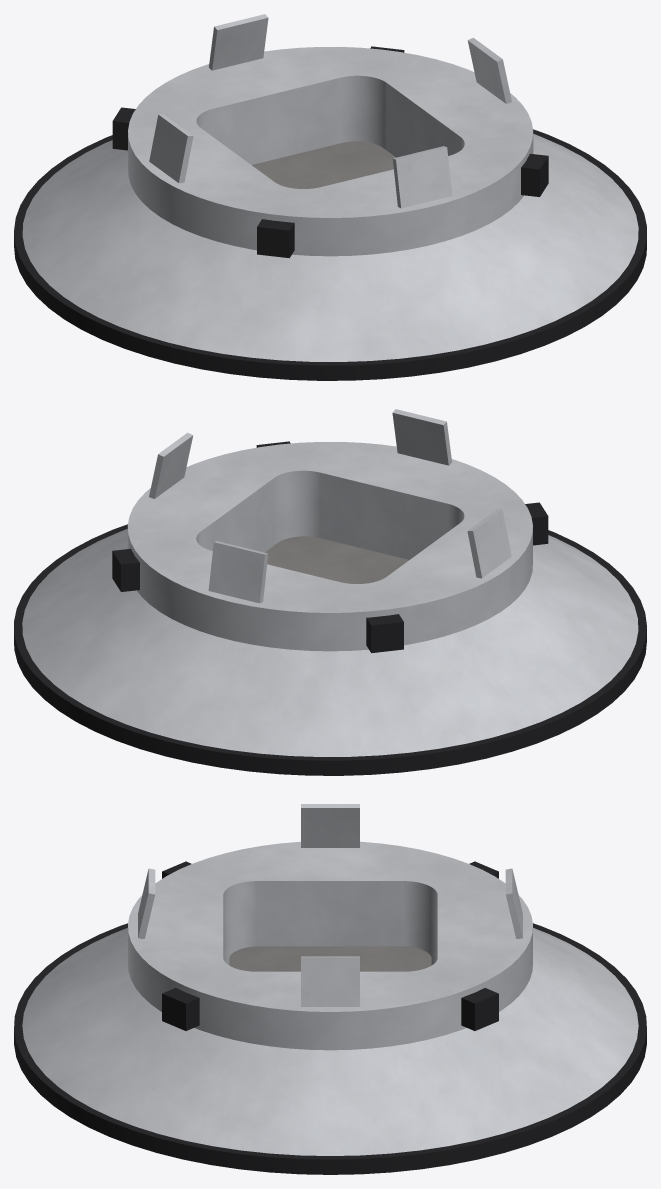
Rendered from station06_cbm.glb.
3 views of the same model, one above another, from view 1: azimuth 30°, elevation 25°; view 2: azimuth 150°, elevation 25°; view 3: azimuth 270°, elevation 25° (orthographic).
Parts seen in each view (by area): view 1: ring_body, base_flange, alignment_guides, hatch_door, capture_latches; view 2: ring_body, base_flange, alignment_guides, hatch_door, capture_latches; view 3: ring_body, base_flange, alignment_guides, hatch_door, capture_latches.
Part boxes in pixels (x1,y1,x2,y2): ring_body: (22, 47, 638, 361); base_flange: (14, 129, 646, 380); alignment_guides: (149, 14, 511, 208); hatch_door: (252, 141, 395, 188); capture_latches: (112, 46, 548, 258); ring_body: (22, 442, 638, 756); base_flange: (14, 524, 646, 775); alignment_guides: (149, 409, 511, 603); hatch_door: (265, 536, 408, 583); capture_latches: (112, 441, 548, 653); ring_body: (22, 841, 638, 1155); base_flange: (14, 923, 646, 1174); alignment_guides: (138, 804, 522, 1006); hatch_door: (229, 946, 431, 971); capture_latches: (162, 861, 498, 1030).
Bounding box in the file's own units: 3.75 × 1.05 × 3.75.
3 materials, 2 textured.
